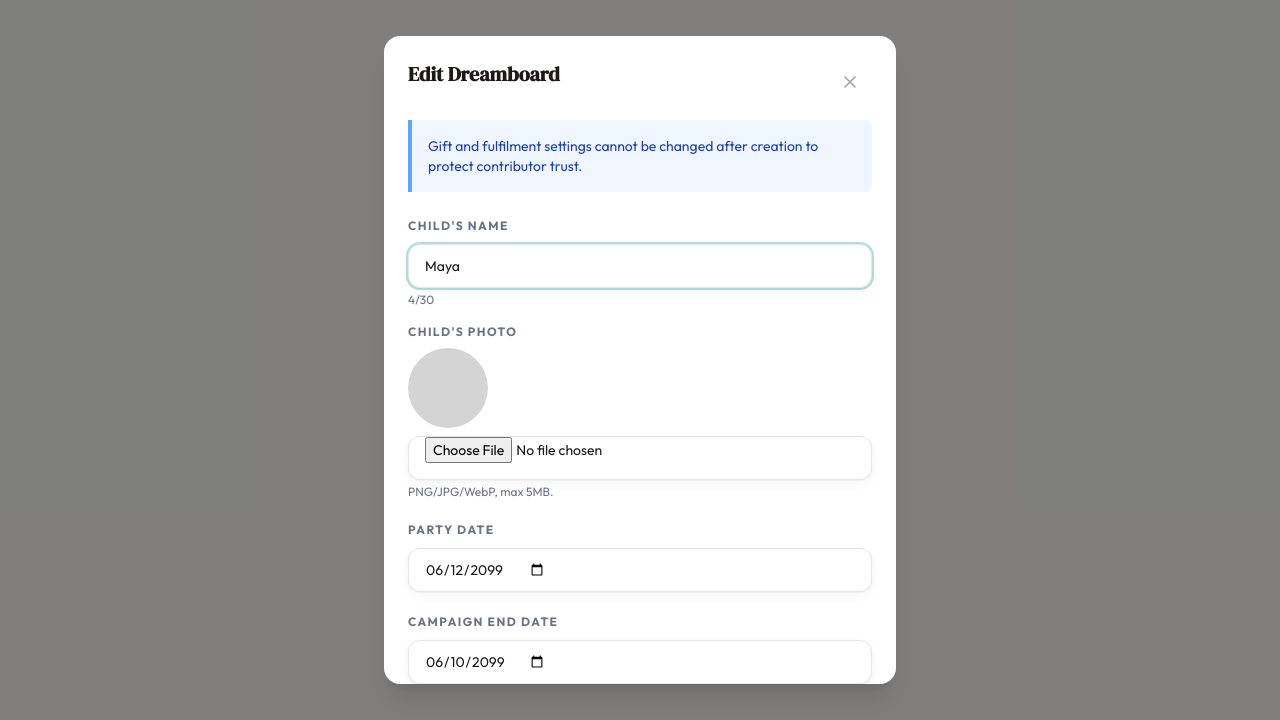
Test: EditDreamBoardModal › blocks backward party date updates
Type "2099-06-11" into the date field labelled "Party Date".
click(640, 570); type("2099-06-11")  # box [408,548,872,592]
(page scrolled)
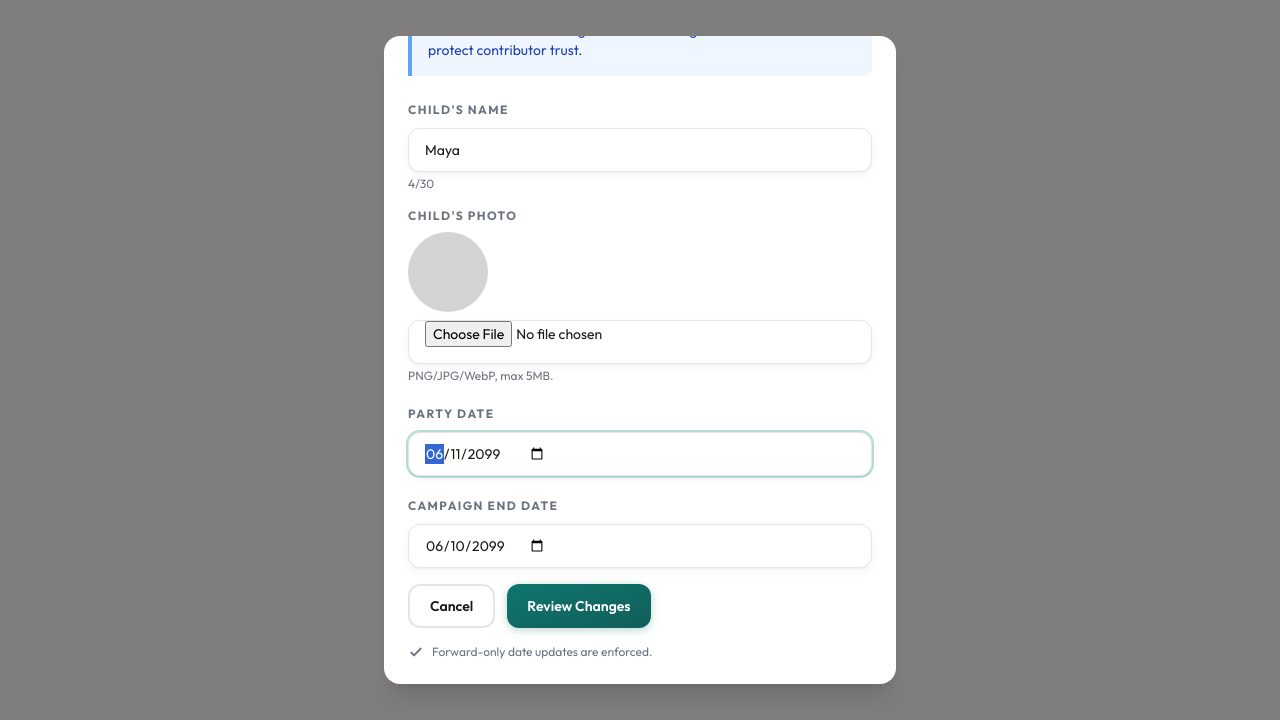
Click the button "Review Changes".
click(579, 606)  # box [507,584,651,628]
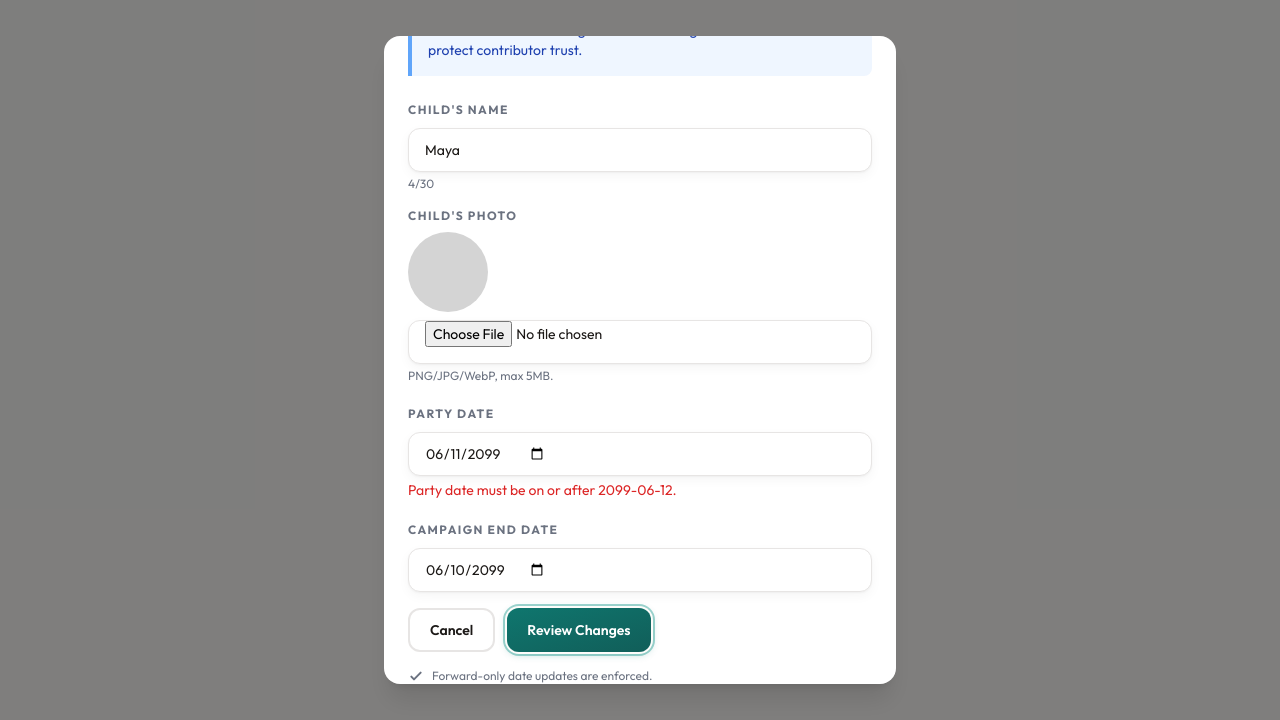
expect the text "Party date must be on or after 2099-06-12." is shown: met, box [408,481,677,499]
